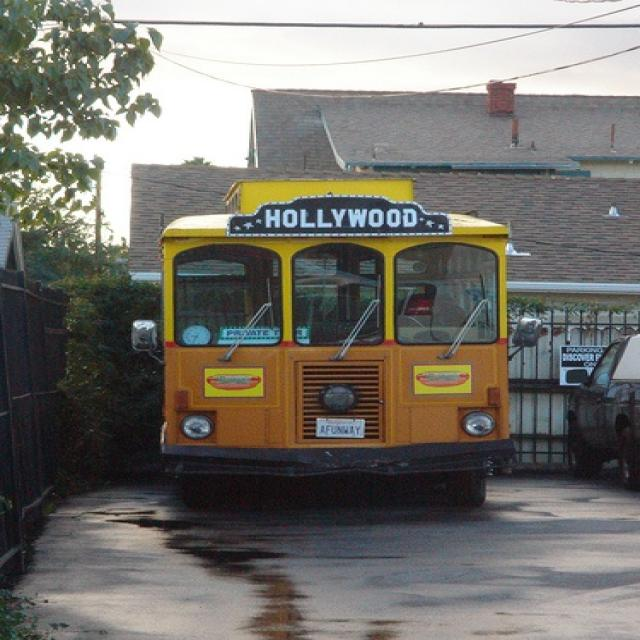bus: (157, 177, 515, 513)
car: (563, 332, 638, 486)
